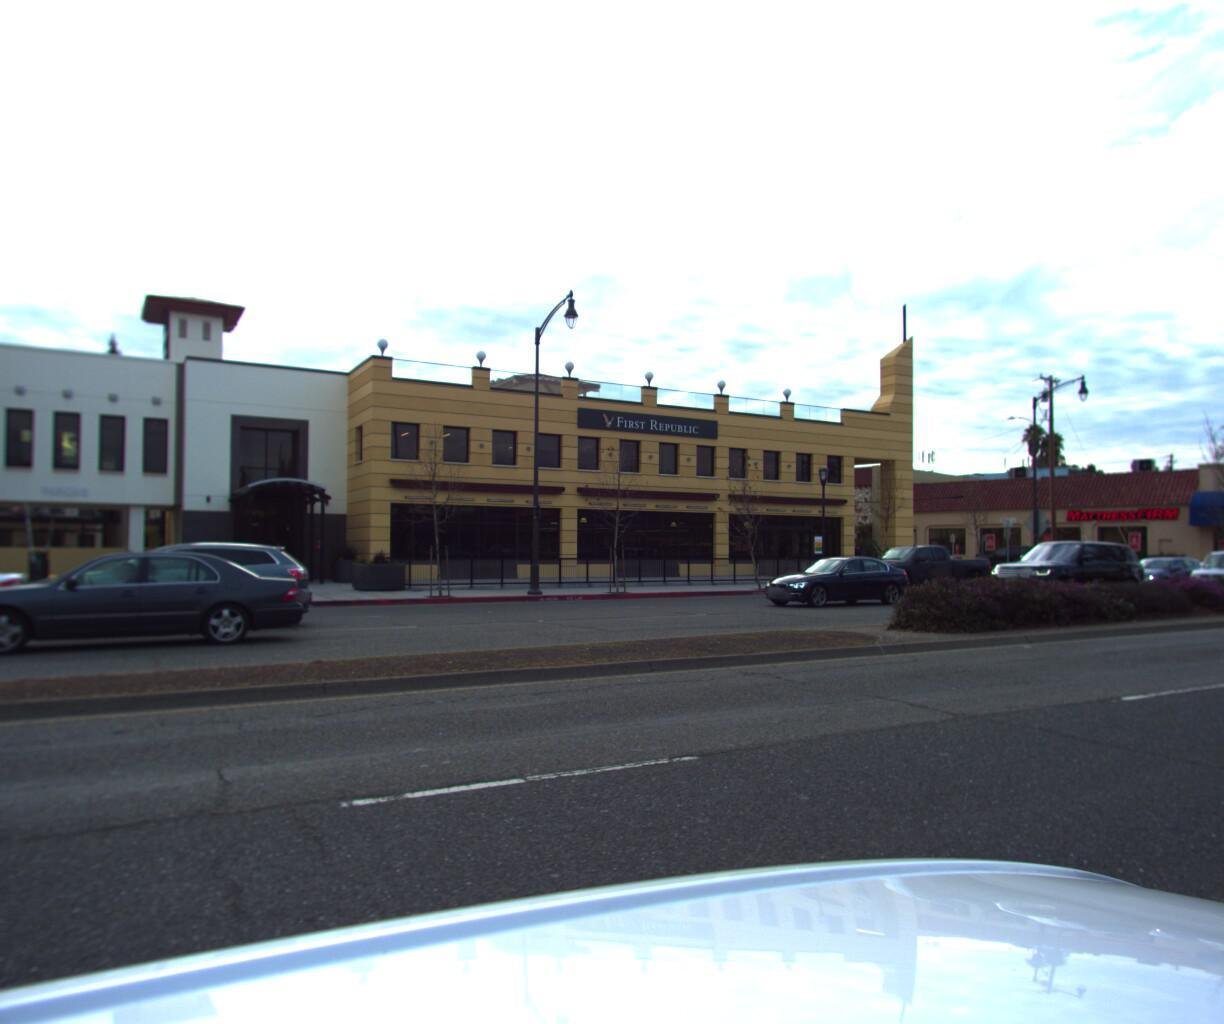car: (0, 553, 301, 665), (55, 538, 338, 645), (845, 545, 1092, 596), (974, 540, 1137, 596), (755, 555, 913, 610), (1108, 555, 1212, 592), (1181, 548, 1224, 593), (0, 523, 15, 637)
truck: (1222, 519, 1224, 581)
